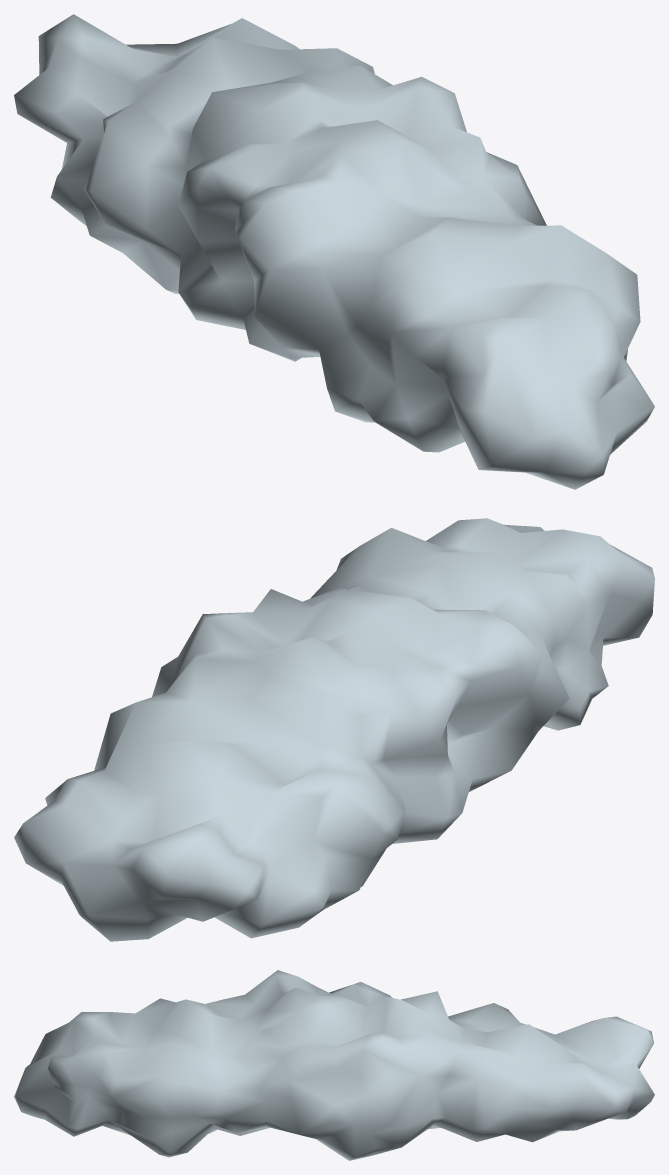
File: clouds 4.fbx
The picture shows the model from 3 angles, top to bottom: view 1: azimuth 30°, elevation 25°; view 2: azimuth 150°, elevation 25°; view 3: azimuth 270°, elevation 25°; orthographic projection. The views are drawn at different scales.
Parts seen in each view (by area): view 1: scale clouds 2; view 2: scale clouds 2; view 3: scale clouds 2.
Boxes of the visible parts, x1=… form: scale clouds 2: x1=14, y1=14, x2=654, y2=489; scale clouds 2: x1=14, y1=518, x2=654, y2=941; scale clouds 2: x1=14, y1=970, x2=654, y2=1160.
Bounding box in the file's own units: 2189 × 1349 × 5680.
